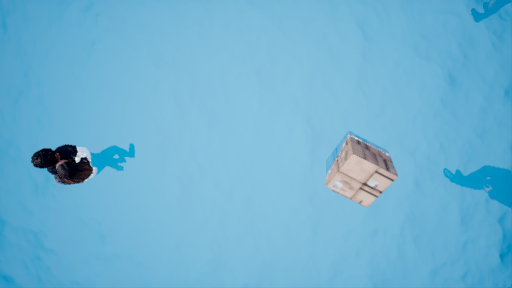person: (18, 135, 145, 183)
